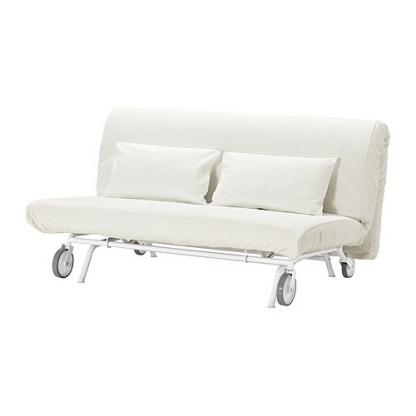Sofa: (20, 103, 392, 310)
